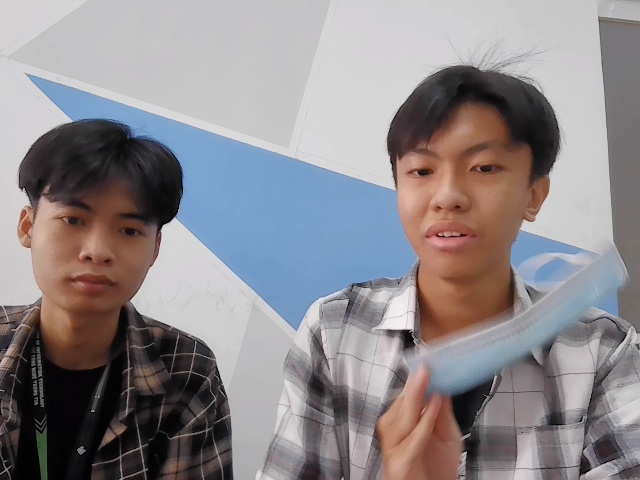human: (385, 56, 560, 284), (20, 119, 185, 323)
mask: (408, 244, 625, 396)
